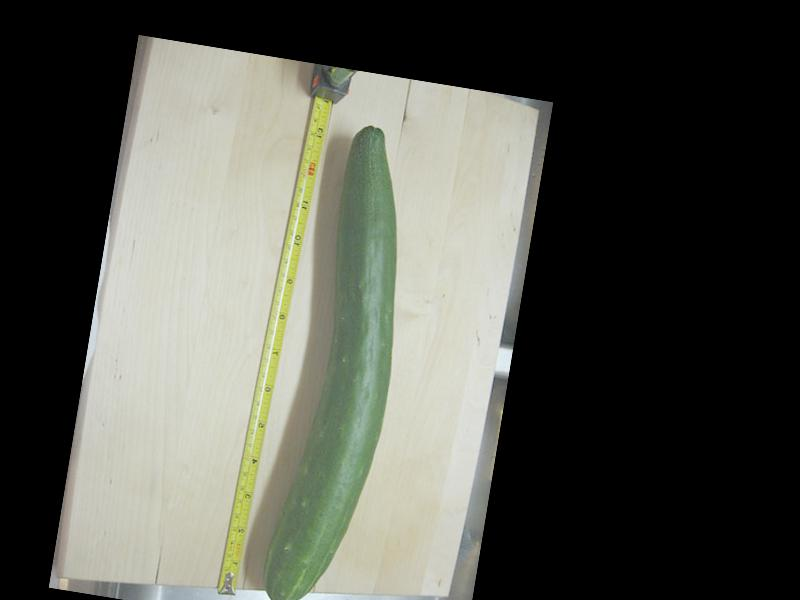Cucumber: (258, 120, 429, 600)
